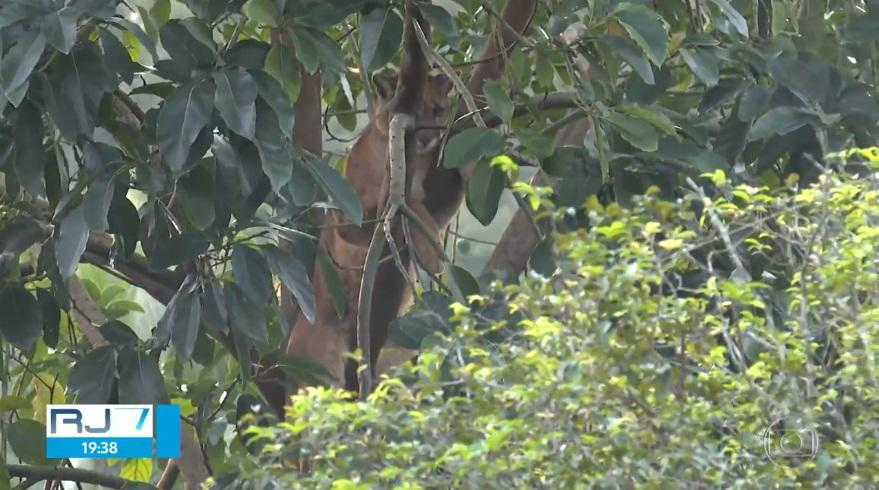OncaParda: (300, 64, 467, 429)
